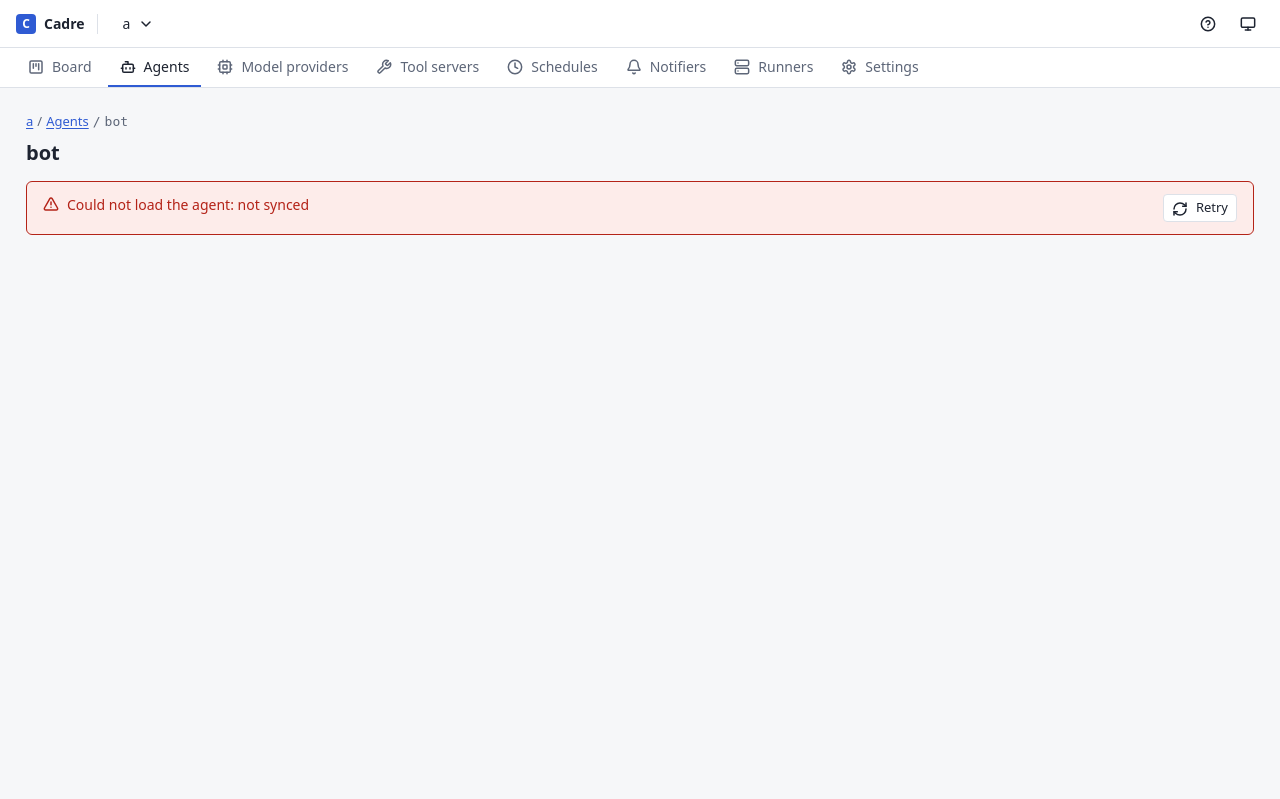
it: AgentDetail › shows a failed read with Retry, which reads again
Expected: the text "Could not load the agent: not synced" is shown, [67,194,309,214]
Click the button "Retry" at (1200, 208), box [1163,194,1237,222]
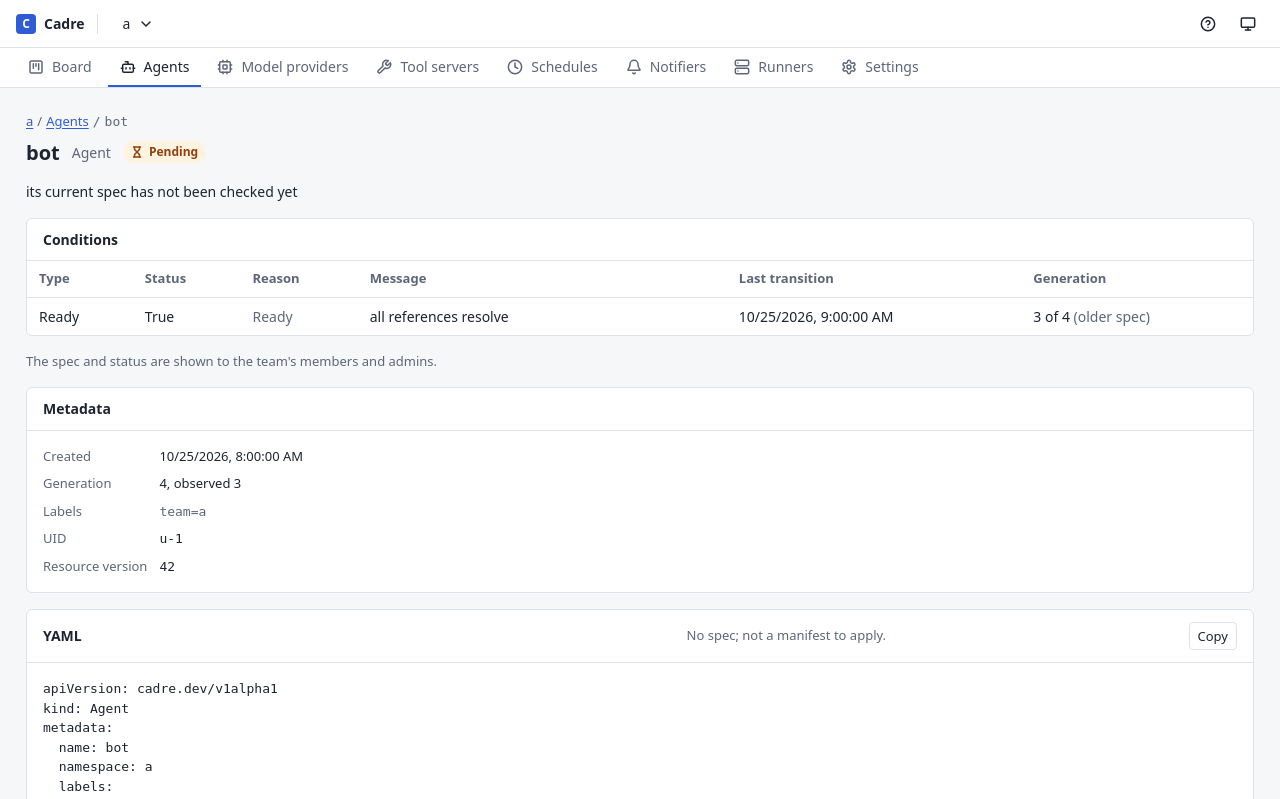
Expected: the element named "Conditions table" is shown, [27,261,1253,334]
Expected: the text "Could not load the agent" is gone
